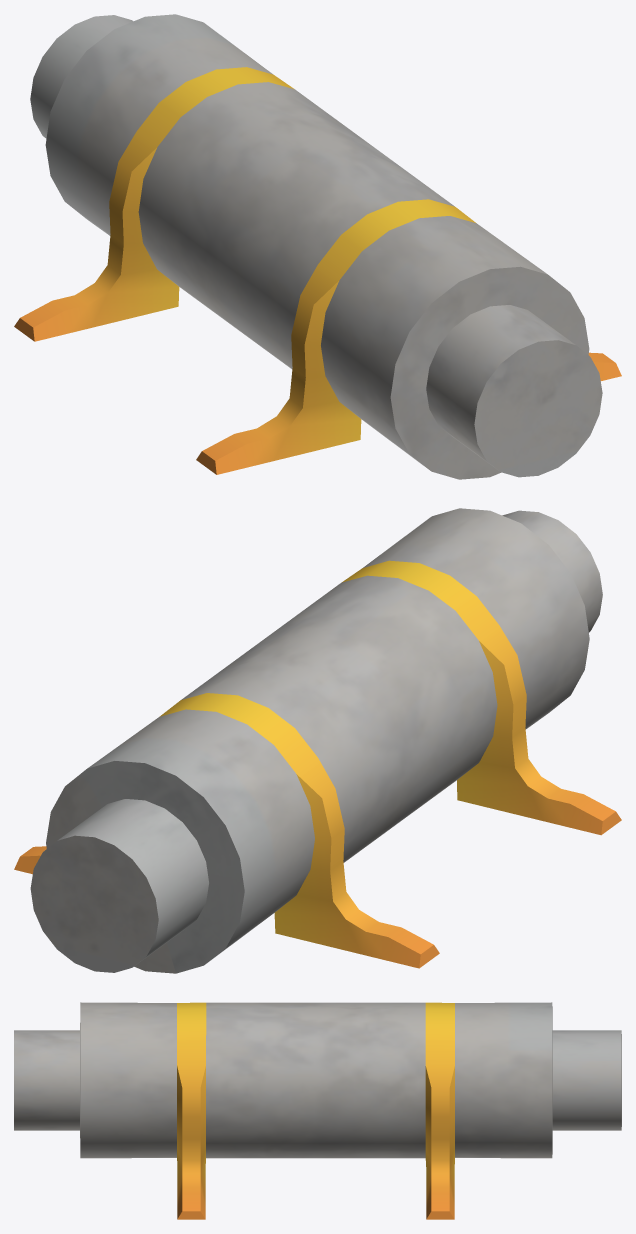
Rendered from Corridor_POS.fbx.
The picture shows the model from 3 angles, top to bottom: view 1: azimuth 30°, elevation 25°; view 2: azimuth 150°, elevation 25°; view 3: azimuth 270°, elevation 25°; orthographic projection. The views are drawn at different scales.
Visible parts, largest first — view 1: corridor_POS; view 2: corridor_POS; view 3: corridor_POS.
Part boxes in pixels (x1,y1,x2,y2): corridor_POS: (14, 14, 621, 479); corridor_POS: (14, 508, 621, 973); corridor_POS: (14, 1002, 621, 1219).
Bounding box in the file's own units: 27.84 × 13.67 × 52.85.
Materials: 1 (1 with a texture image).
